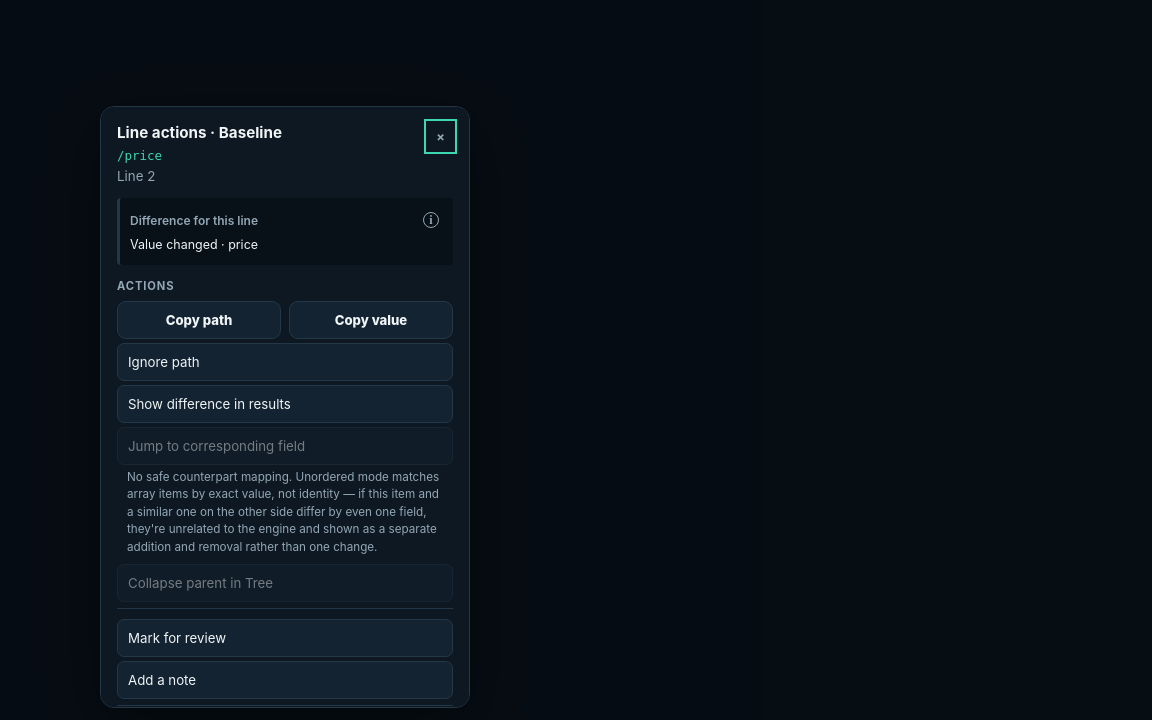
PanelActions › copies canonical paths and values, with a manual fallback on blocked clipboard
This screenshot has width=1152, height=720.
Click the button "Copy path" at (199, 320), box x1=117 y1=301 x2=281 y2=339
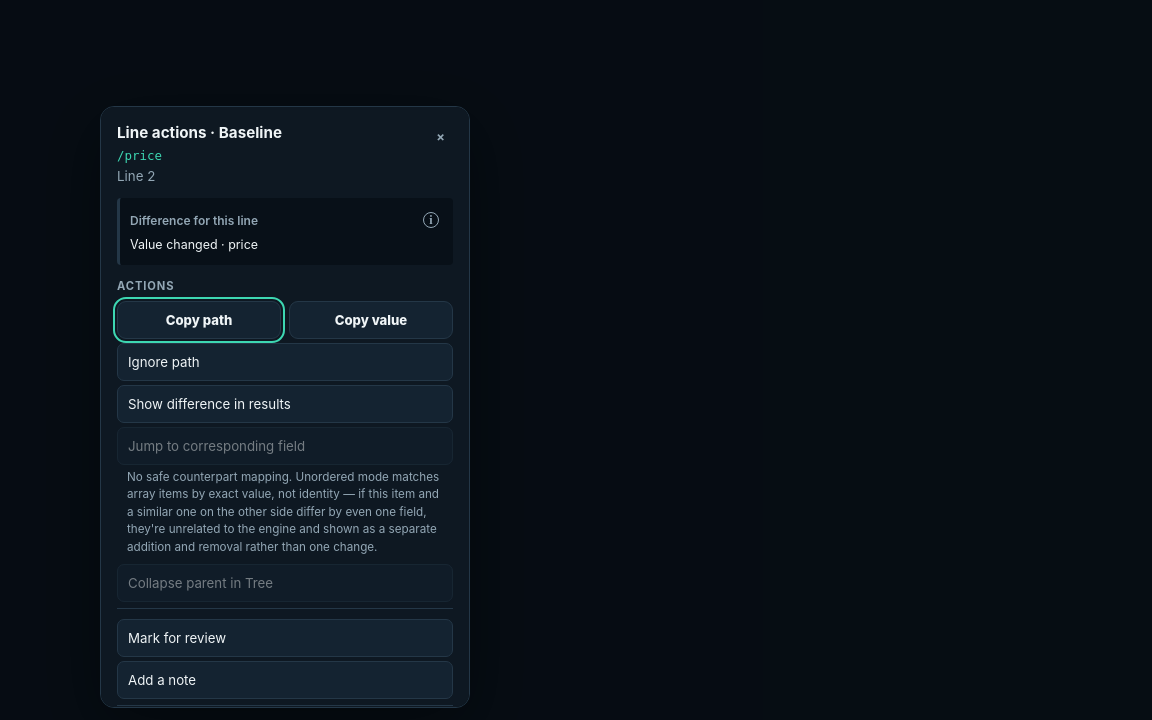
Click the button "Copy value" at (371, 320), box x1=289 y1=301 x2=453 y2=339
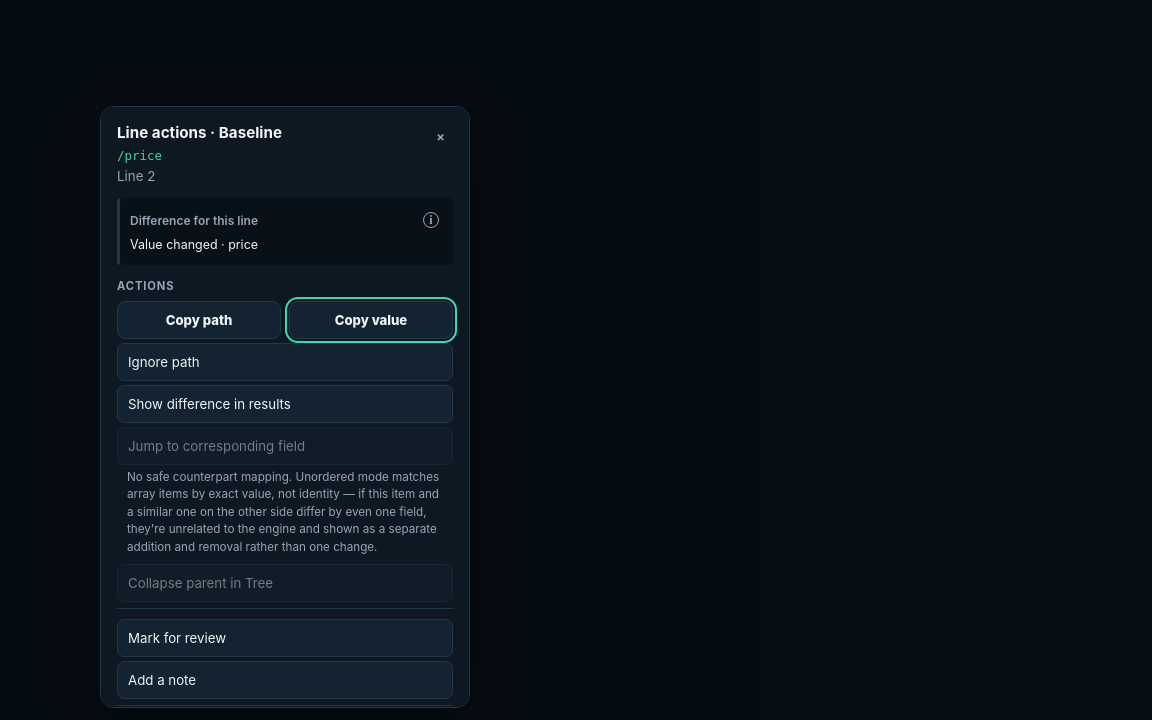
Click the button "Copy value" at (371, 320), box x1=289 y1=301 x2=453 y2=339
(page scrolled)
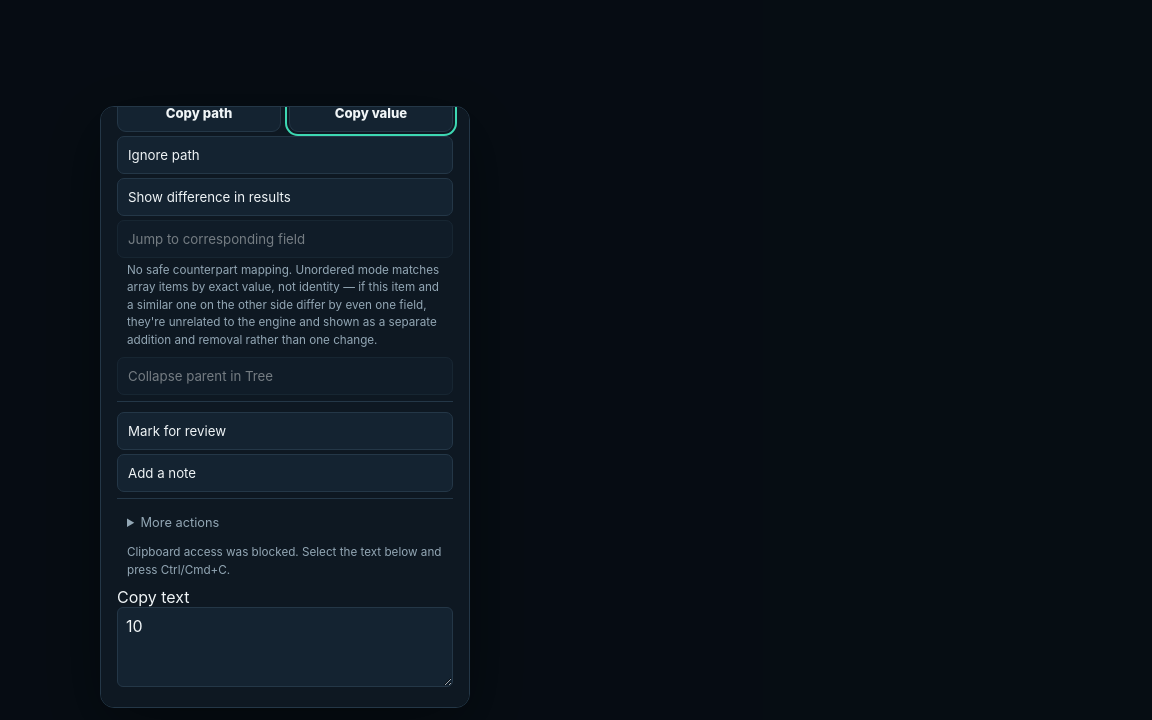
expect the text box labelled "Copy text" holds "10": met, box x1=117 y1=607 x2=453 y2=687
